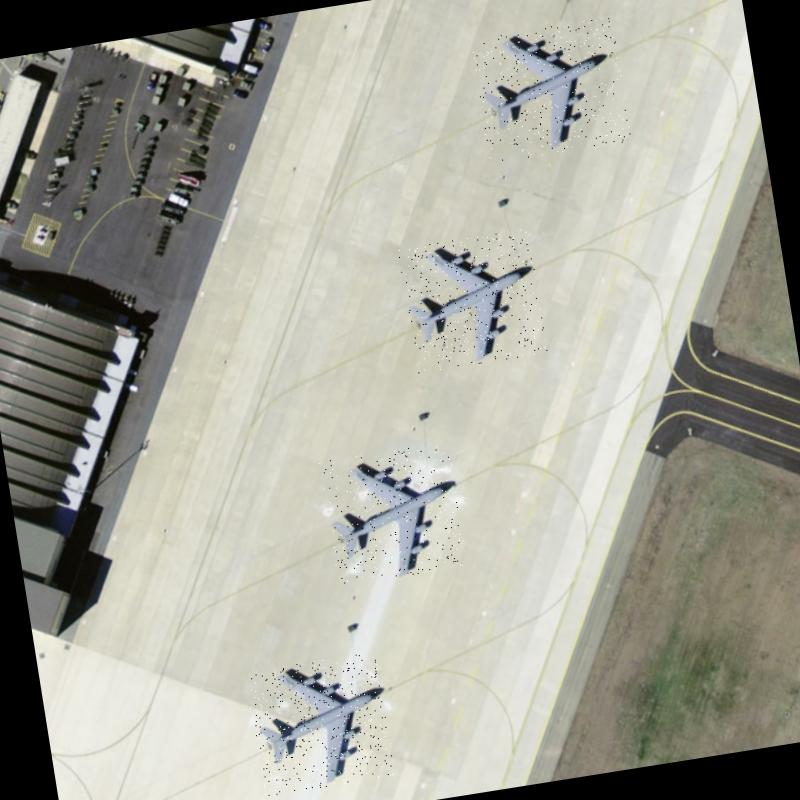A14: (470, 16, 632, 163), (398, 228, 548, 373), (318, 441, 468, 586), (246, 651, 394, 796)
